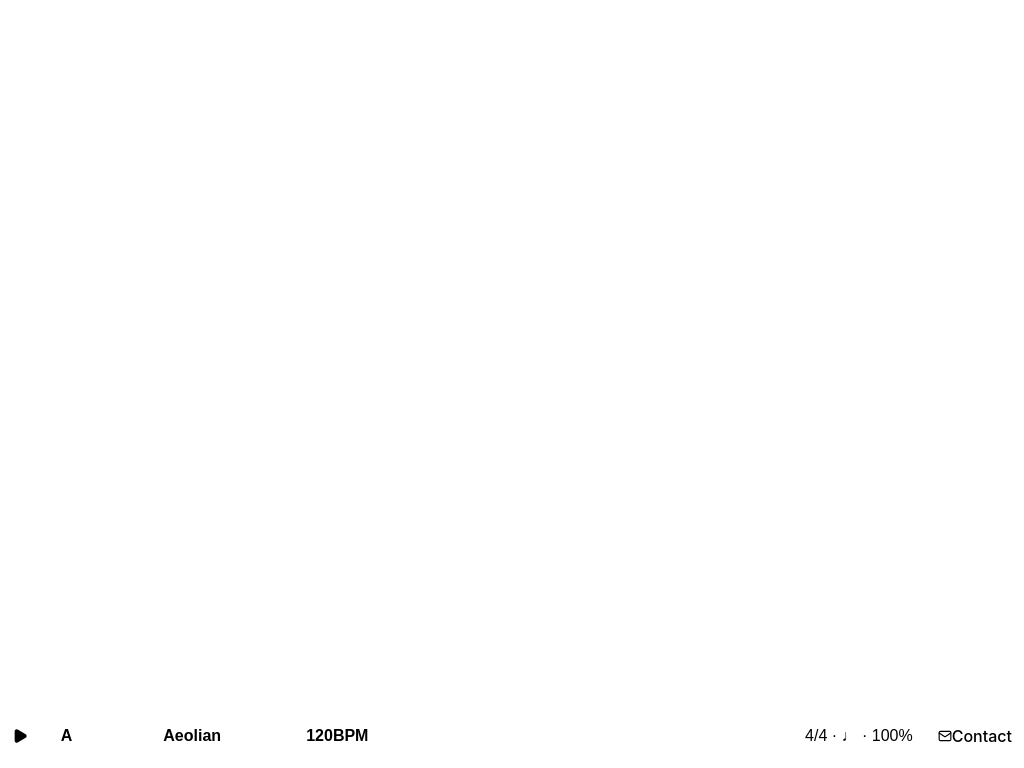
only one pop-up is open at a time
Click the button "A Aeolian" at [167, 736], box [40,720,293,752]
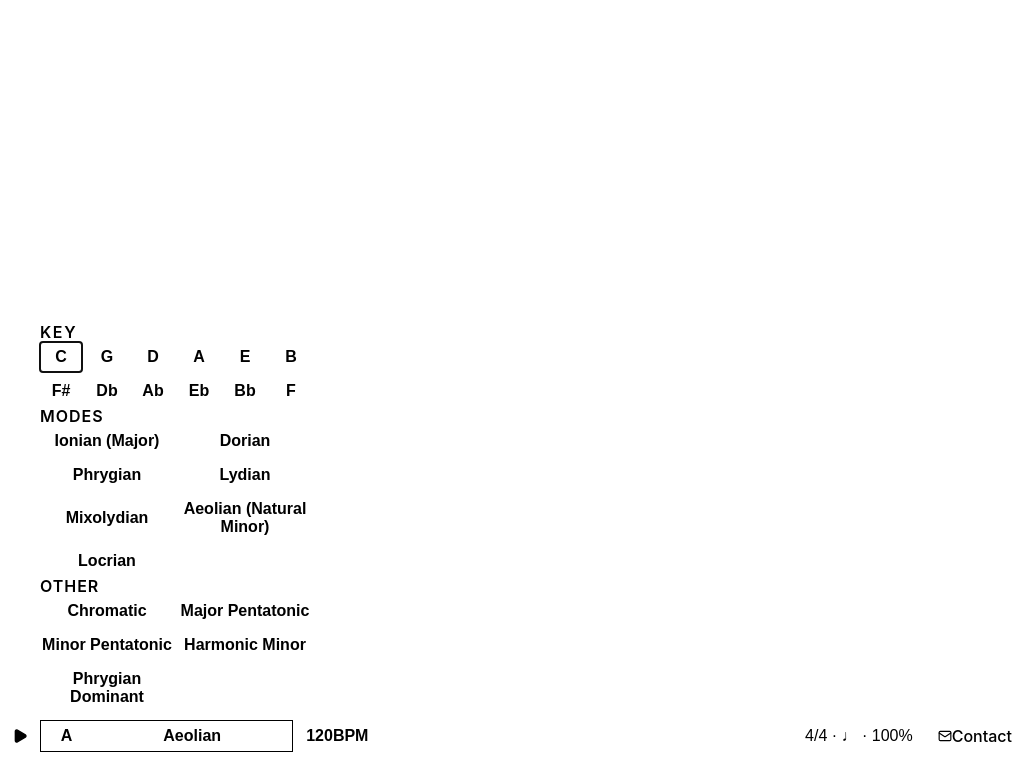
Click the button "120 BPM" at [337, 736], box [293,720,382,752]
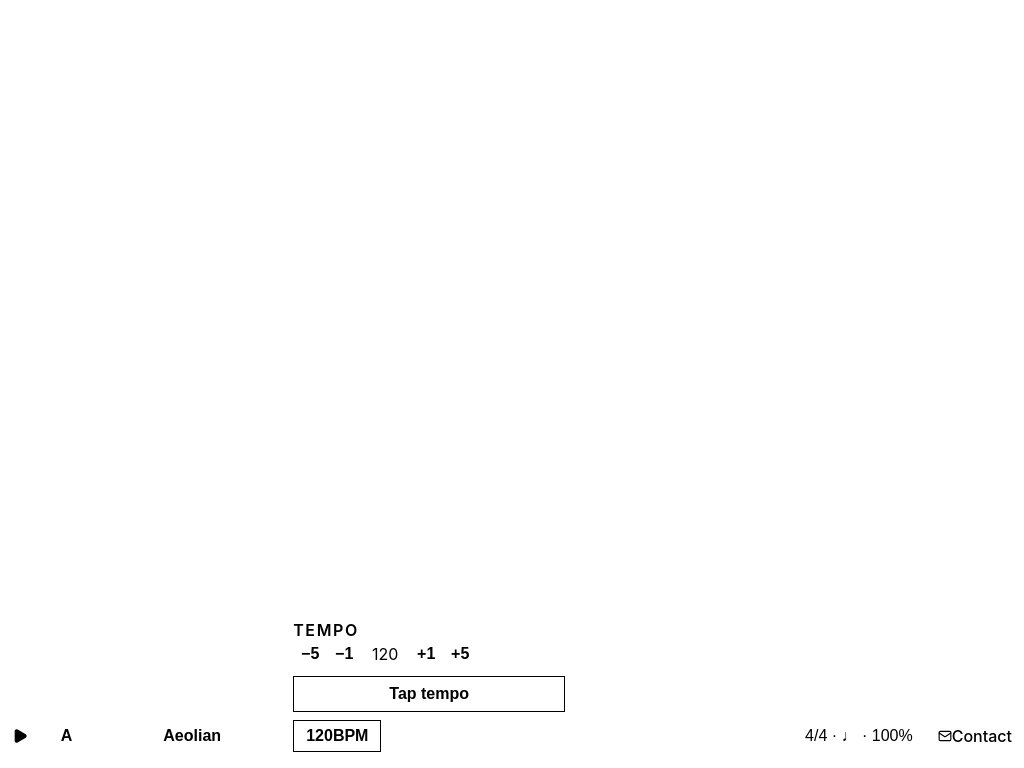
Now the text "Key" is gone
Now the dialog "Tempo" is shown, box [293,620,565,712]
